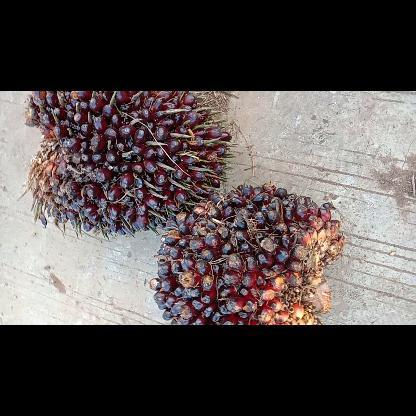TBS mentah: (24, 90, 232, 235), (148, 182, 344, 324)
